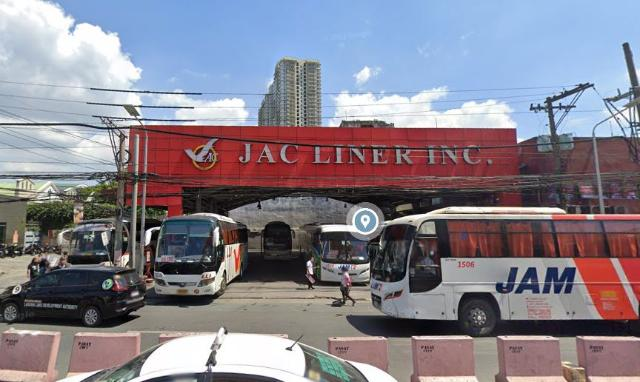bus: (372, 207, 633, 335), (151, 212, 249, 296), (66, 218, 161, 272), (303, 223, 374, 284), (260, 221, 293, 261)
car: (1, 265, 146, 326)
